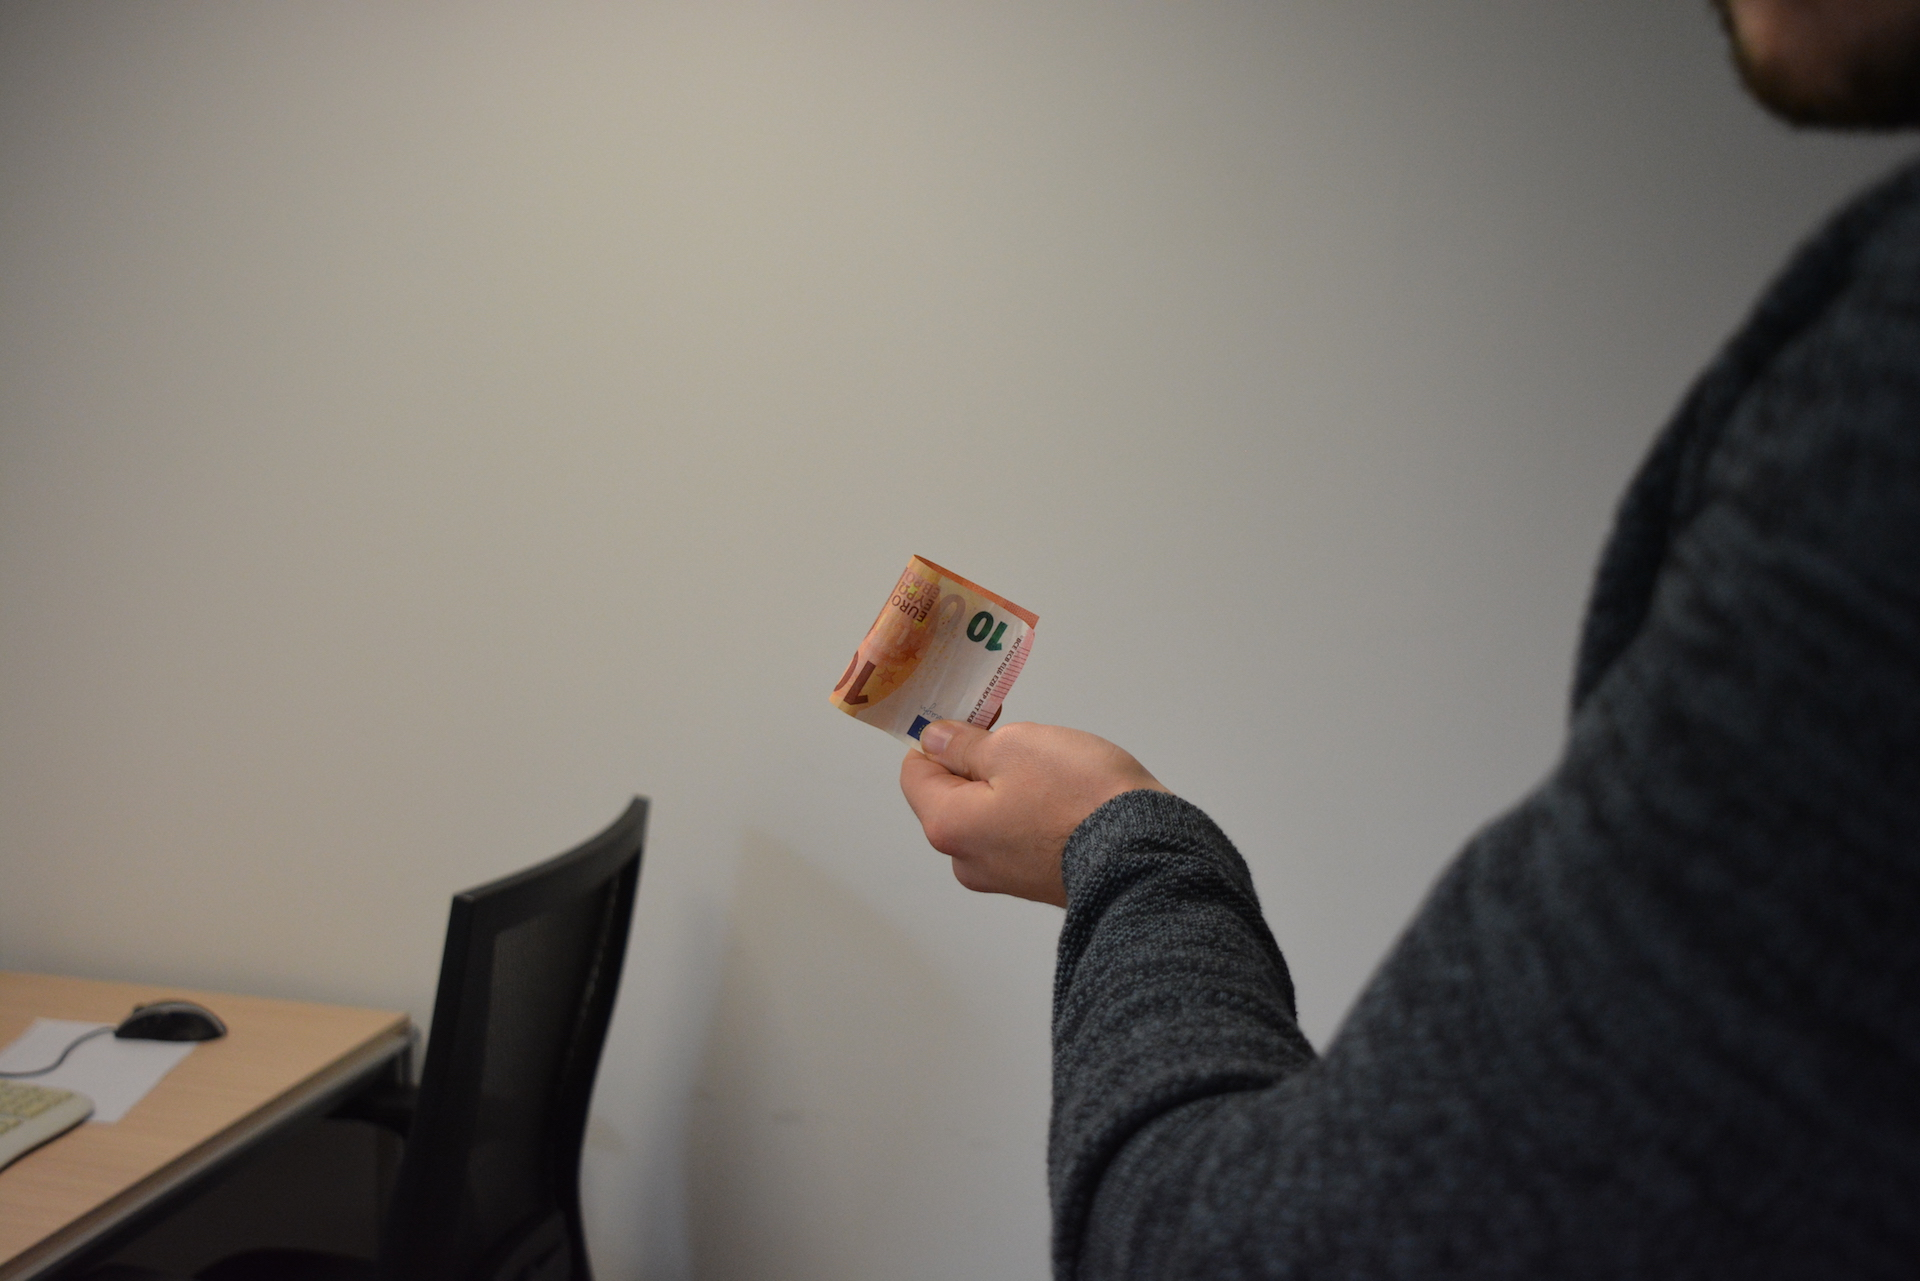billete: (826, 553, 1041, 761)
